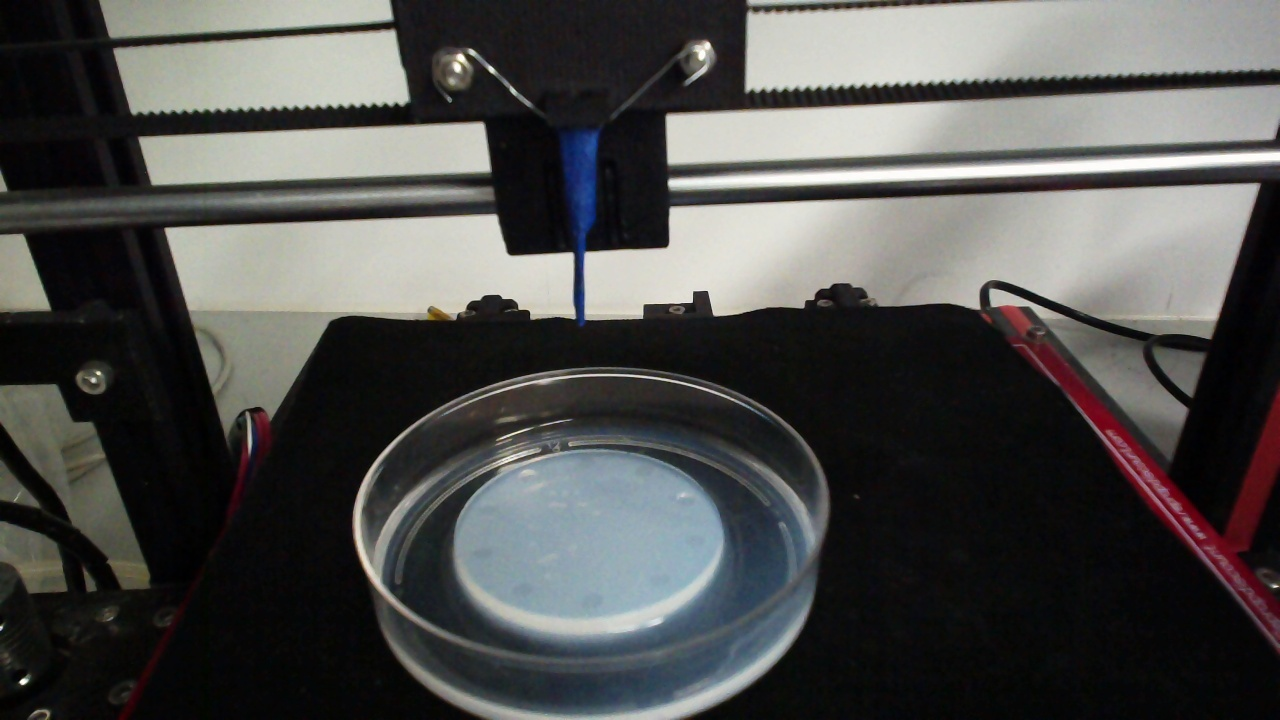groove: (579, 592, 604, 610), (470, 543, 494, 560), (511, 582, 534, 599), (649, 571, 670, 588), (684, 532, 705, 549), (675, 491, 696, 508), (576, 455, 597, 471), (633, 464, 655, 479), (517, 467, 536, 484), (476, 502, 497, 517)
needle: (564, 129, 598, 328)
